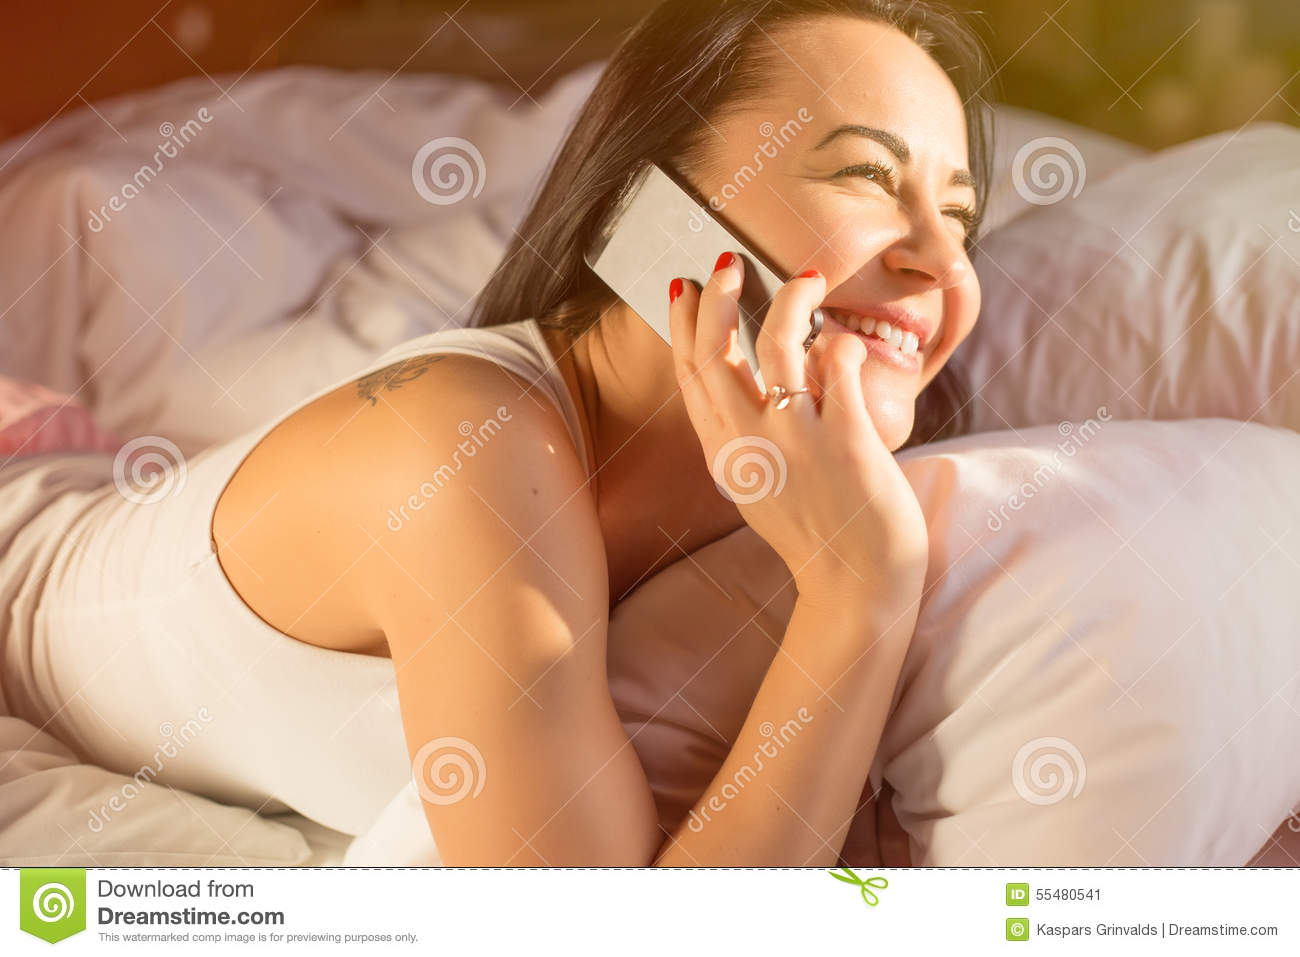phone: (589, 159, 823, 410)
talk: (578, 105, 986, 635)
